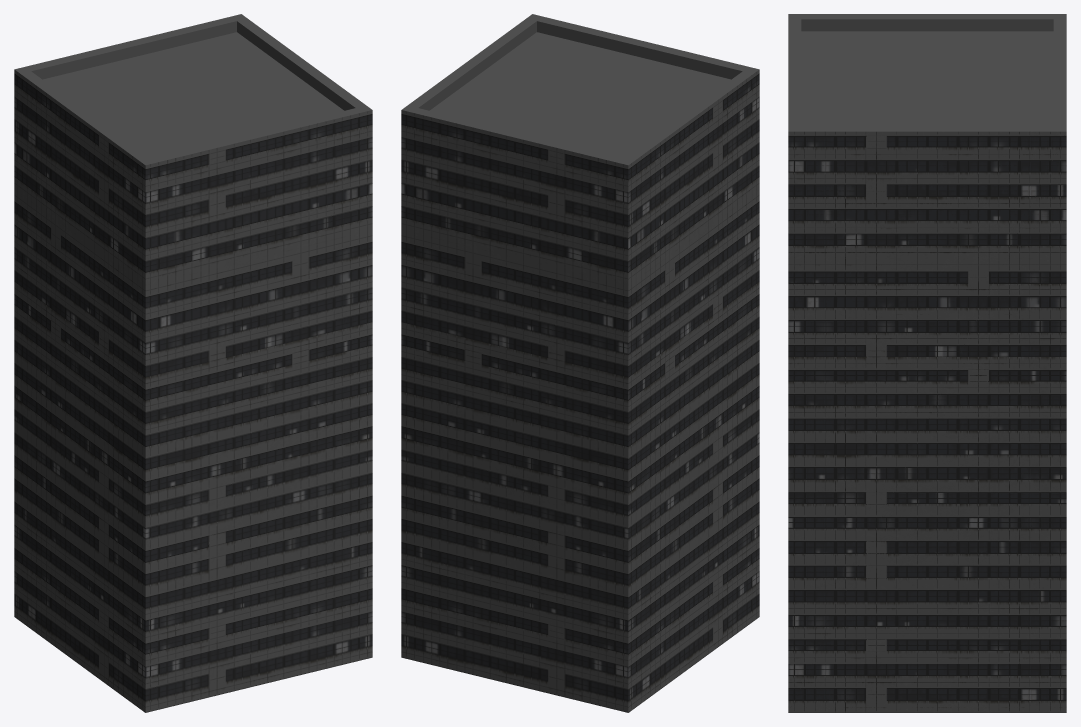
Rendered from Mesh_Chamfered-Big.fbx.
3 views of the same model, side by side, from view 1: azimuth 30°, elevation 25°; view 2: azimuth 150°, elevation 25°; view 3: azimuth 270°, elevation 25° (orthographic). The views are drawn at different scales.
Visible parts, largest first — view 1: Mesh_Chamfered-Big; view 2: Mesh_Chamfered-Big; view 3: Mesh_Chamfered-Big.
Part boxes in pixels (x1,y1,x2,y2): Mesh_Chamfered-Big: (14, 14, 372, 712); Mesh_Chamfered-Big: (401, 14, 759, 712); Mesh_Chamfered-Big: (788, 14, 1066, 712).
Size of the model in its own units: 22.95 by 52.88 by 22.95.
